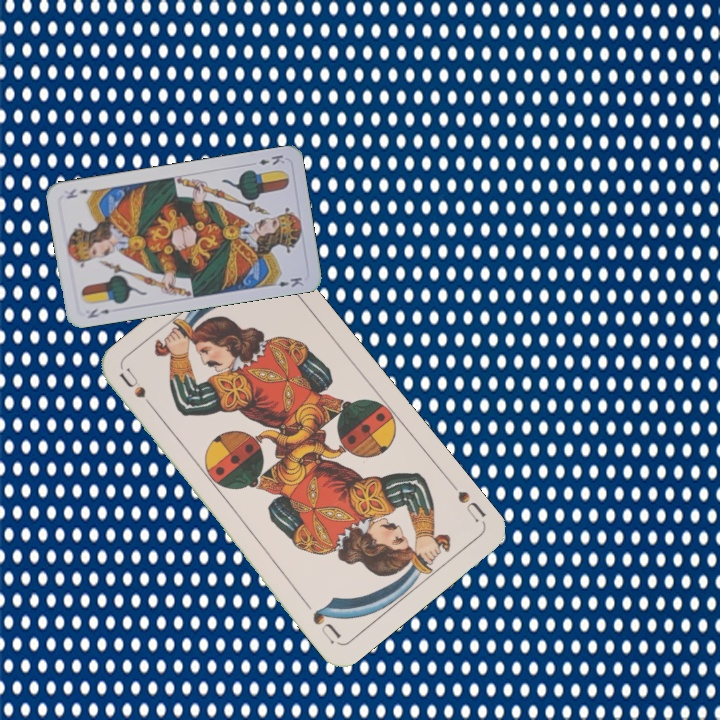EK: (255, 151, 287, 168), (84, 304, 112, 321)
SU: (115, 365, 161, 417), (453, 486, 488, 525)
